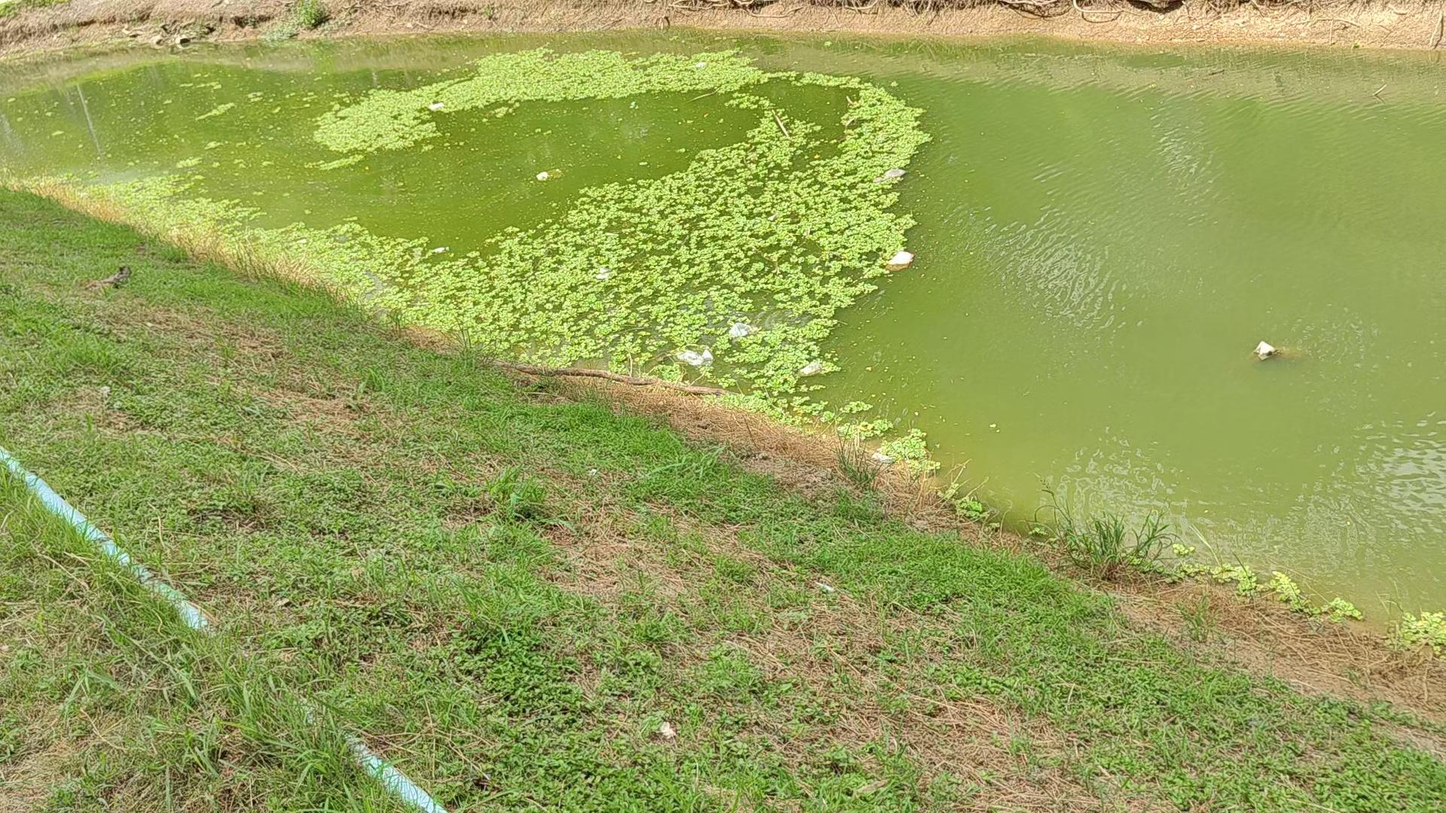trash: (676, 349, 712, 366), (888, 251, 914, 269), (1255, 340, 1278, 359), (729, 322, 758, 337), (876, 169, 905, 181), (800, 361, 823, 375), (536, 171, 557, 181), (595, 266, 610, 279), (428, 102, 444, 111), (432, 246, 448, 254), (694, 62, 707, 68)
